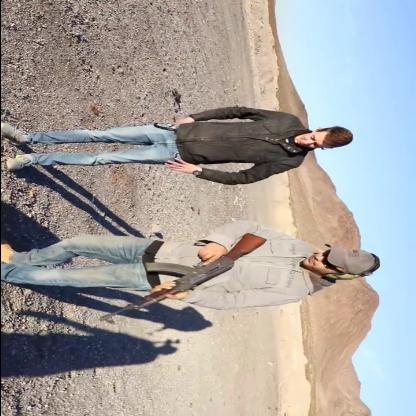long weapon: (93, 235, 281, 324)
